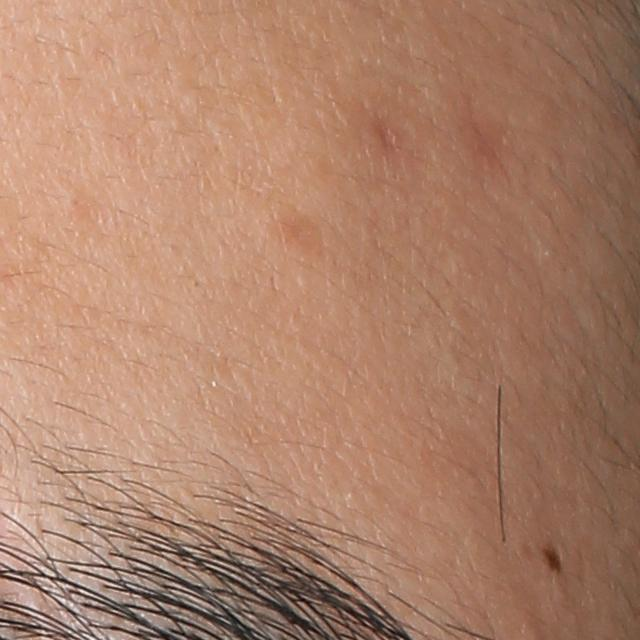nevus: (541, 547, 562, 575)
